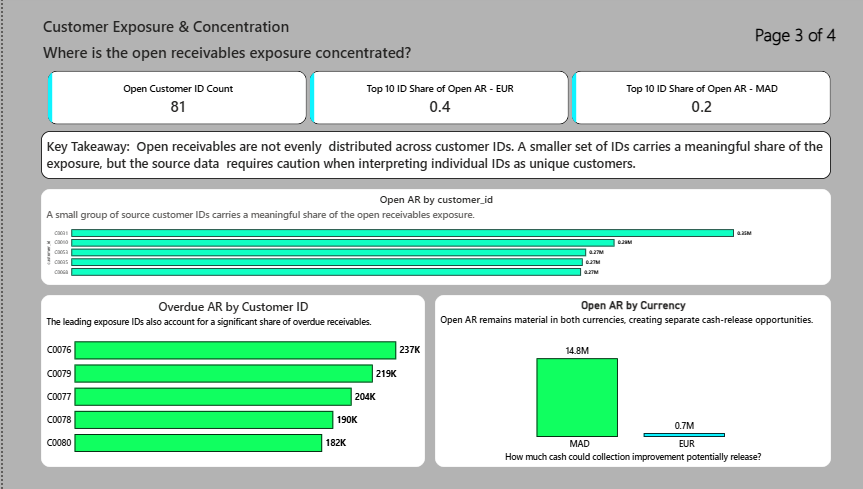

What the dashboard file says about the page in this screenshot:
{"tool":"powerbi","page":{"name":"Page 3","canvas":[2150,1247],"ordinal":2},"visuals":[{"type":"textbox","box":[96,24,1128,144],"z":0},{"type":"textbox","box":[1296,24,792,144],"z":1000},{"type":"textbox","box":[95,335,1975,120],"z":2000},{"type":"cardVisual","fields":{"Data":["Table.Open Customer ID Count","Table.Top 10 ID Share of Open AR - EUR","Table.Top 10 ID Share of Open AR - MAD"]},"box":[96,168,1992,168],"z":3000},{"type":"clusteredBarChart","fields":{"Category":["analytics ae_ar_invoice.customer_id"],"Y":["Table.Open AR"]},"box":[95,480,1975,240],"z":4000},{"type":"clusteredBarChart","title":"Overdue AR by Customer ID","fields":{"Category":["analytics ae_ar_invoice.customer_id"],"Y":["Table.Overdue AR"]},"box":[95,745,960,430],"z":5000},{"type":"clusteredColumnChart","fields":{"Category":["DimCurrency.Currency"],"Y":["Table.Open AR"]},"box":[1080,745,990,430],"z":6000}]}

Visuals, with their boxes in screenshot pixels (x1, y1, x2, y2), scaled from the page's 2150x1247 canvas onto the 863x489 screenshot:
textbox: pyautogui.locateOnScreen(39, 9, 491, 66)
textbox: pyautogui.locateOnScreen(520, 9, 838, 66)
textbox: pyautogui.locateOnScreen(38, 131, 831, 178)
cardVisual - Table.Open Customer ID Count x Table.Top 10 ID Share of Open AR - EUR: pyautogui.locateOnScreen(39, 66, 838, 132)
clusteredBarChart - analytics ae_ar_invoice.customer_id x Table.Open AR: pyautogui.locateOnScreen(38, 188, 831, 282)
"Overdue AR by Customer ID" clusteredBarChart: pyautogui.locateOnScreen(38, 292, 423, 461)
clusteredColumnChart - DimCurrency.Currency x Table.Open AR: pyautogui.locateOnScreen(434, 292, 831, 461)
